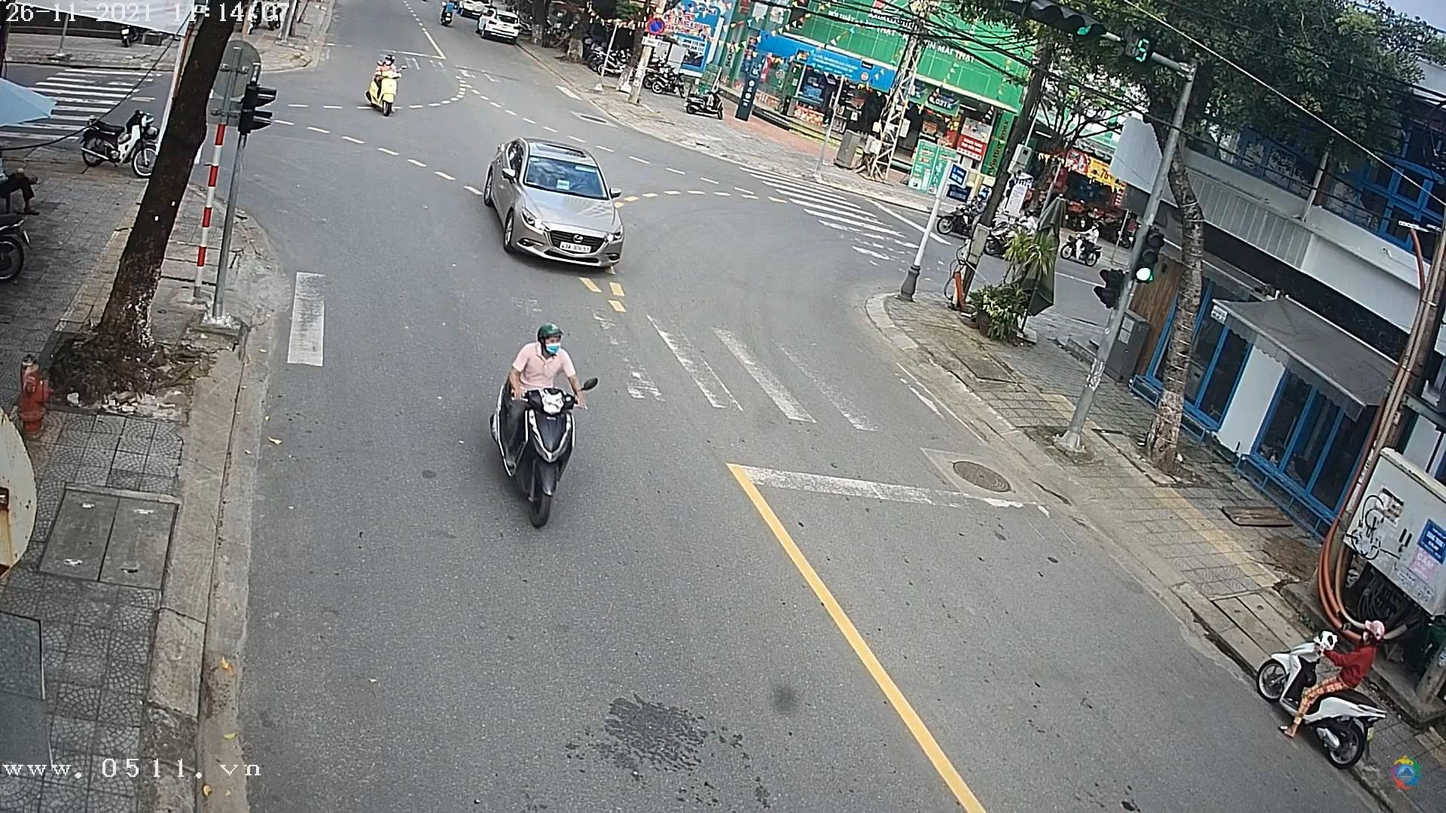car: (488, 141, 626, 269)
motorbike: (488, 364, 590, 535), (366, 62, 403, 119)
